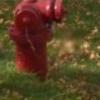a fire hydrant: (9, 0, 64, 78)
